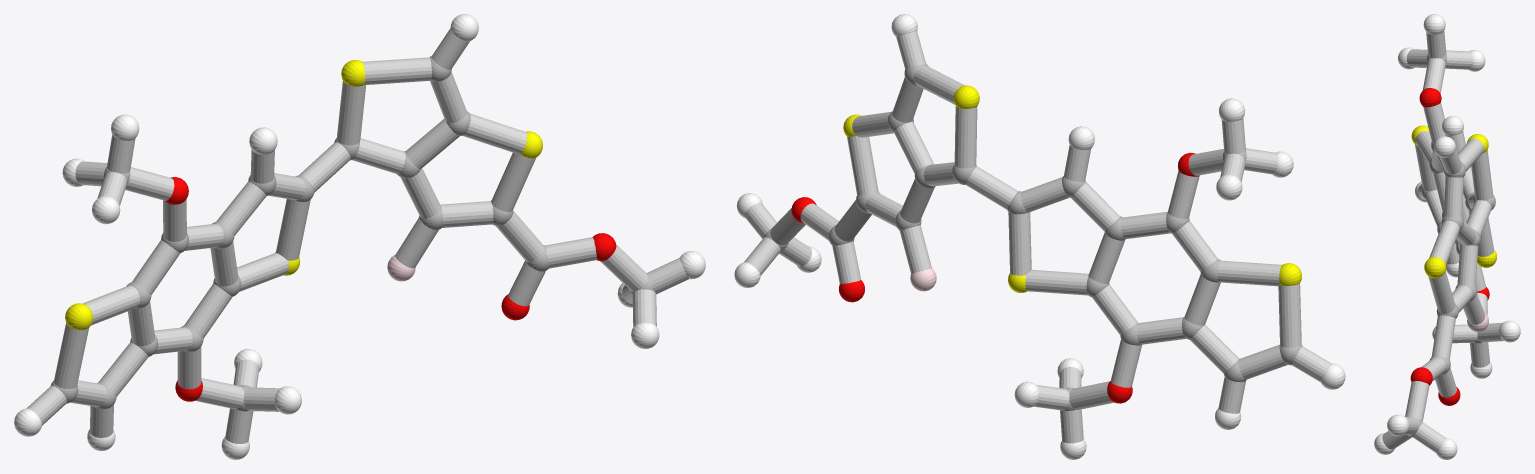
File: color.glb
3 views of the same model, side by side, from view 1: azimuth 30°, elevation 25°; view 2: azimuth 150°, elevation 25°; view 3: azimuth 270°, elevation 25° (orthographic). The views are drawn at different scales.
Visible parts, largest first — view 1: grp15205, grp8689, grp1, grp7241, grp13395; view 2: grp15205, grp8689, grp1, grp7241, grp13395; view 3: grp15205, grp8689, grp1, grp13395, grp7241, grp14843.
Part boxes in pixels (<box>): grp15205: <box>26,28,688,443</box>; grp8689: <box>14,14,705,459</box>; grp1: <box>50,56,653,411</box>; grp7241: <box>65,60,542,330</box>; grp13395: <box>164,177,616,401</box>; grp15205: <box>744,31,1331,443</box>; grp8689: <box>734,14,1345,459</box>; grp1: <box>764,63,1302,410</box>; grp7241: <box>843,85,1301,292</box>; grp13395: <box>791,152,1199,403</box>; grp15205: <box>1382,31,1503,452</box>; grp8689: <box>1374,14,1520,459</box>; grp1: <box>1407,54,1495,436</box>; grp13395: <box>1410,88,1489,405</box>; grp7241: <box>1411,125,1496,278</box>; grp14843: <box>1467,312,1488,331</box>.
Size of the model in its own units: 16.33 by 9.56 by 3.99.
